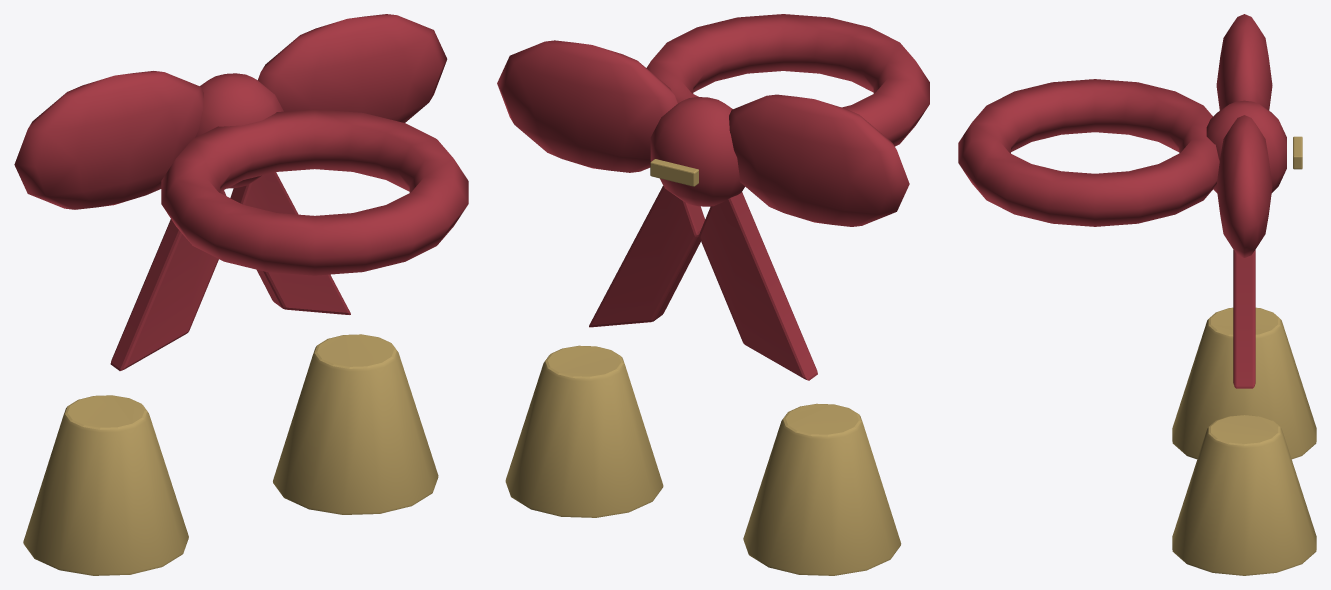
The model's file is lamp_winter.glb.
3 renders of one model, left to right at view 1: azimuth 30°, elevation 25°; view 2: azimuth 150°, elevation 25°; view 3: azimuth 270°, elevation 25°, orthographic. The views are drawn at different scales.
Bounding box in the file's own units: 0.4165 × 0.4545 × 0.3355.
